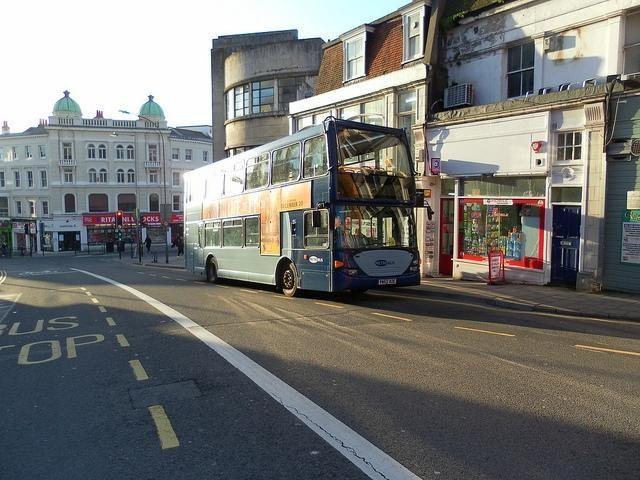bus: (182, 118, 420, 298)
